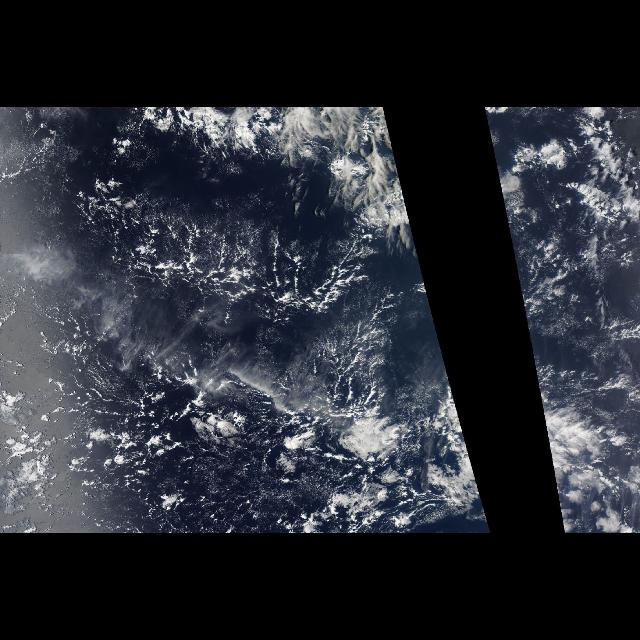Fish: (67, 107, 436, 319), (482, 107, 632, 319)
Gravel: (3, 331, 457, 533), (487, 117, 638, 345)
